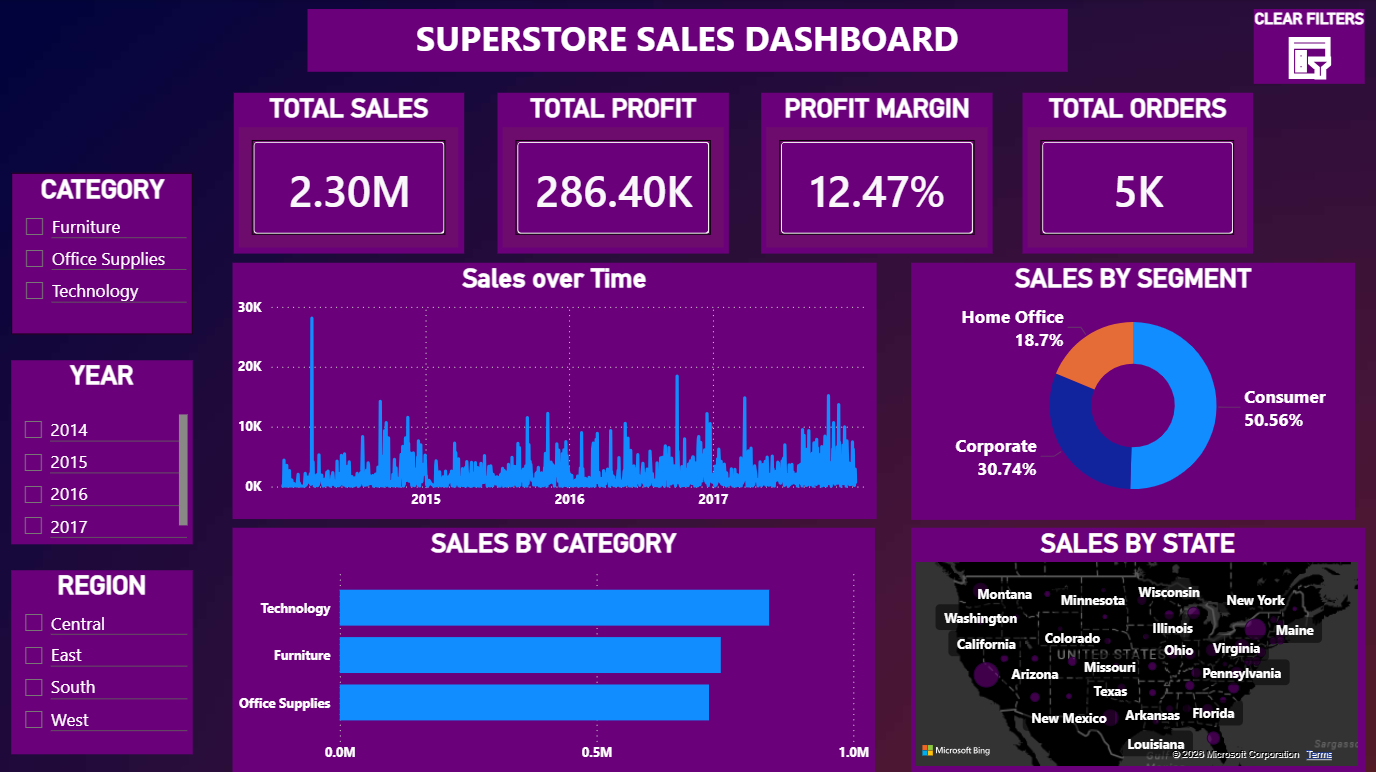

Layout of this report page (visuals, bound fields, positions):
{"tool":"powerbi","page":{"name":"Page 1","canvas":[1280,720],"ordinal":0},"visuals":[{"type":"cardVisual","title":"TOTAL SALES","fields":{"Data":["Sum(superstore_clean.sales)"]},"box":[217.7,87.1,214.4,149.6],"z":0},{"type":"cardVisual","title":"TOTAL PROFIT","fields":{"Data":["Sum(superstore_clean.profit)"]},"box":[462.3,87.1,215.5,149.6],"z":1000},{"type":"cardVisual","title":"TOTAL ORDERS","fields":{"Data":["superstore_clean.TOTAL_ORDERS"]},"box":[951.4,87.1,214.4,149.6],"z":2000},{"type":"cardVisual","title":"PROFIT MARGIN","fields":{"Data":["superstore_clean.PROFIT MARGIN"]},"box":[707.9,87.1,215.5,149.6],"z":3000},{"type":"lineChart","title":"Sales over Time","fields":{"Y":["Sum(superstore_clean.sales)"],"Category":["superstore_clean.order_date"]},"box":[216.3,245.3,598.8,238.4],"z":4000},{"type":"clusteredBarChart","title":"SALES BY CATEGORY","fields":{"Y":["Sum(superstore_clean.sales)"],"Category":["superstore_clean.category"]},"box":[216.3,491.9,597.7,227.9],"z":5000},{"type":"donutChart","title":"SALES BY SEGMENT","fields":{"Y":["Sum(superstore_clean.sales)"],"Category":["superstore_clean.segment"]},"box":[847.7,245,413.1,238.9],"z":6000},{"type":"map","title":"SALES BY STATE","fields":{"Size":["Sum(superstore_clean.sales)"],"Category":["superstore_clean.state"]},"box":[847.7,492.3,421.5,226.9],"z":7000},{"type":"textbox","box":[286.6,8.9,706.8,58.1],"z":8000},{"type":"slicer","title":"CATEGORY","fields":{"Values":["superstore_clean.category"]},"box":[10.5,161.6,168.6,150],"z":9000},{"type":"slicer","title":"REGION","fields":{"Values":["superstore_clean.region"]},"box":[10.5,531.4,168.6,170.9],"z":10000},{"type":"slicer","title":"YEAR","fields":{"Values":["superstore_clean.year"]},"box":[10.5,336,168.6,170.9],"z":11000},{"type":"actionButton","title":"CLEAR FILTERS","box":[1166.3,9.3,103.5,69.8],"z":12000}]}

Visuals, with their boxes in screenshot pixels (x1, y1, x2, y2), scaled from the page's 1280x720 canvas onto the 1376x772 screenshot:
"TOTAL SALES" cardVisual: rect(234, 93, 465, 254)
"TOTAL PROFIT" cardVisual: rect(497, 93, 729, 254)
"TOTAL ORDERS" cardVisual: rect(1023, 93, 1253, 254)
"PROFIT MARGIN" cardVisual: rect(761, 93, 993, 254)
"Sales over Time" lineChart: rect(233, 263, 876, 519)
"SALES BY CATEGORY" clusteredBarChart: rect(233, 527, 875, 771)
"SALES BY SEGMENT" donutChart: rect(911, 263, 1355, 519)
"SALES BY STATE" map: rect(911, 528, 1364, 771)
textbox: rect(308, 10, 1068, 72)
"CATEGORY" slicer: rect(11, 173, 193, 334)
"REGION" slicer: rect(11, 570, 193, 753)
"YEAR" slicer: rect(11, 360, 193, 544)
"CLEAR FILTERS" actionButton: rect(1254, 10, 1365, 85)
